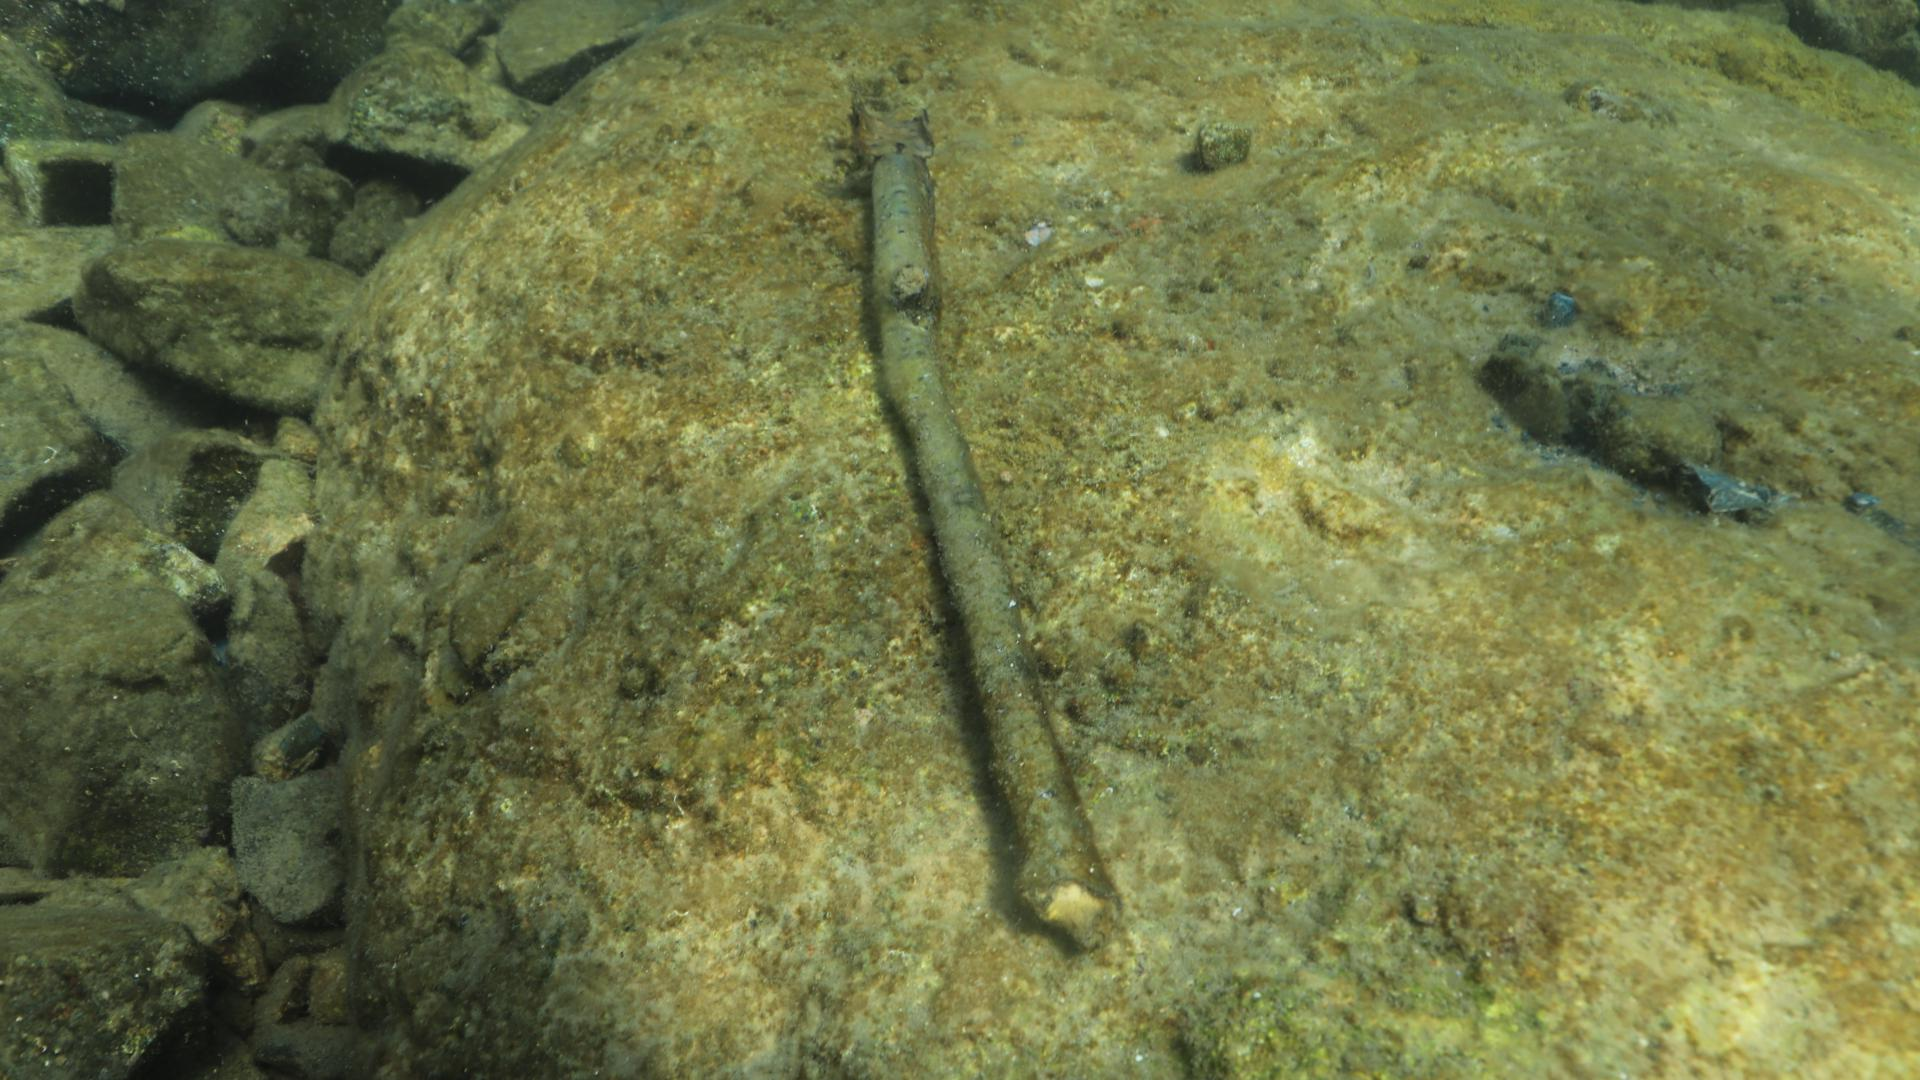wood: (866, 149, 1124, 949)
